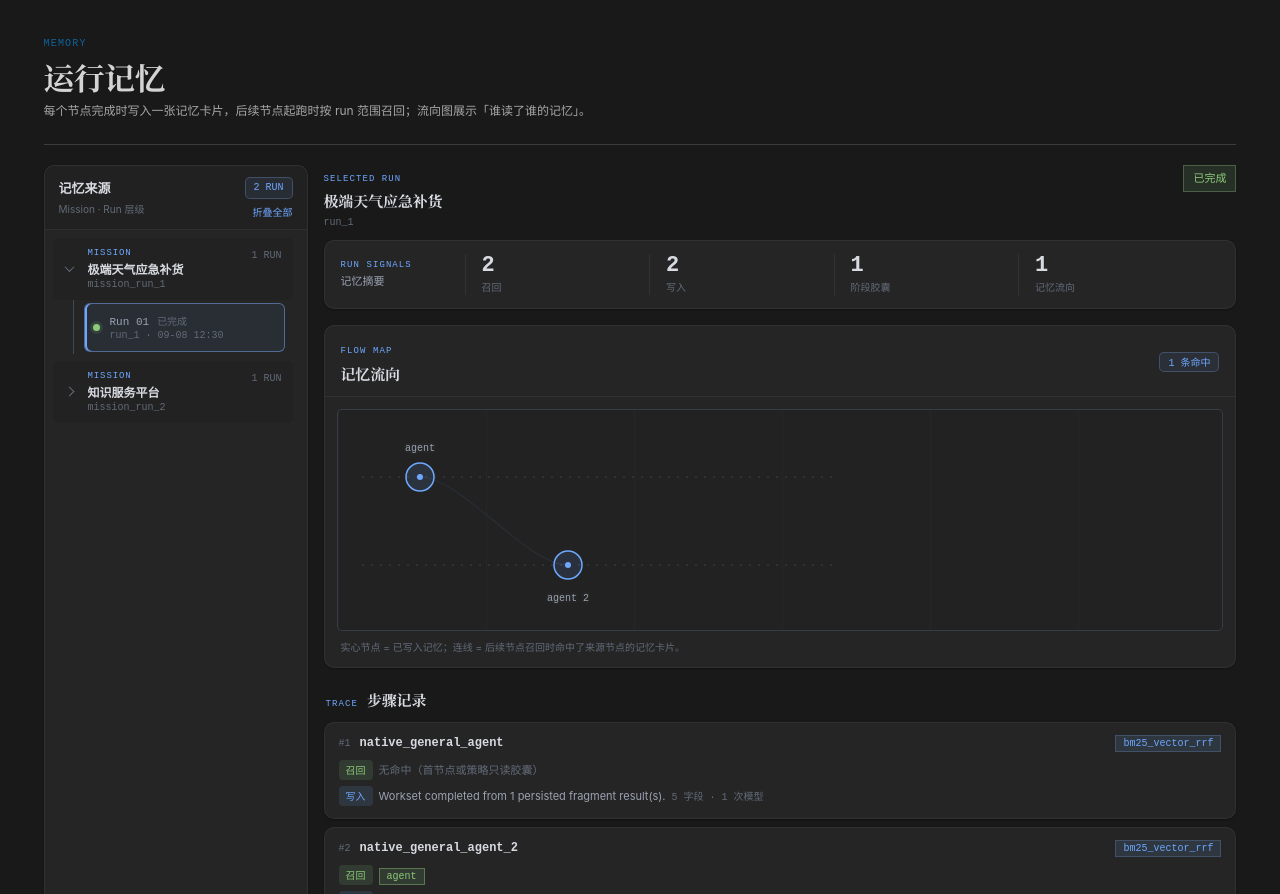
Scenario: MemoryView › 点击其它运行切换并重新拉取记忆事件
Click the 2nd button with class "memory-mission__head".
click(172, 392)  # box [52,361,292,423]
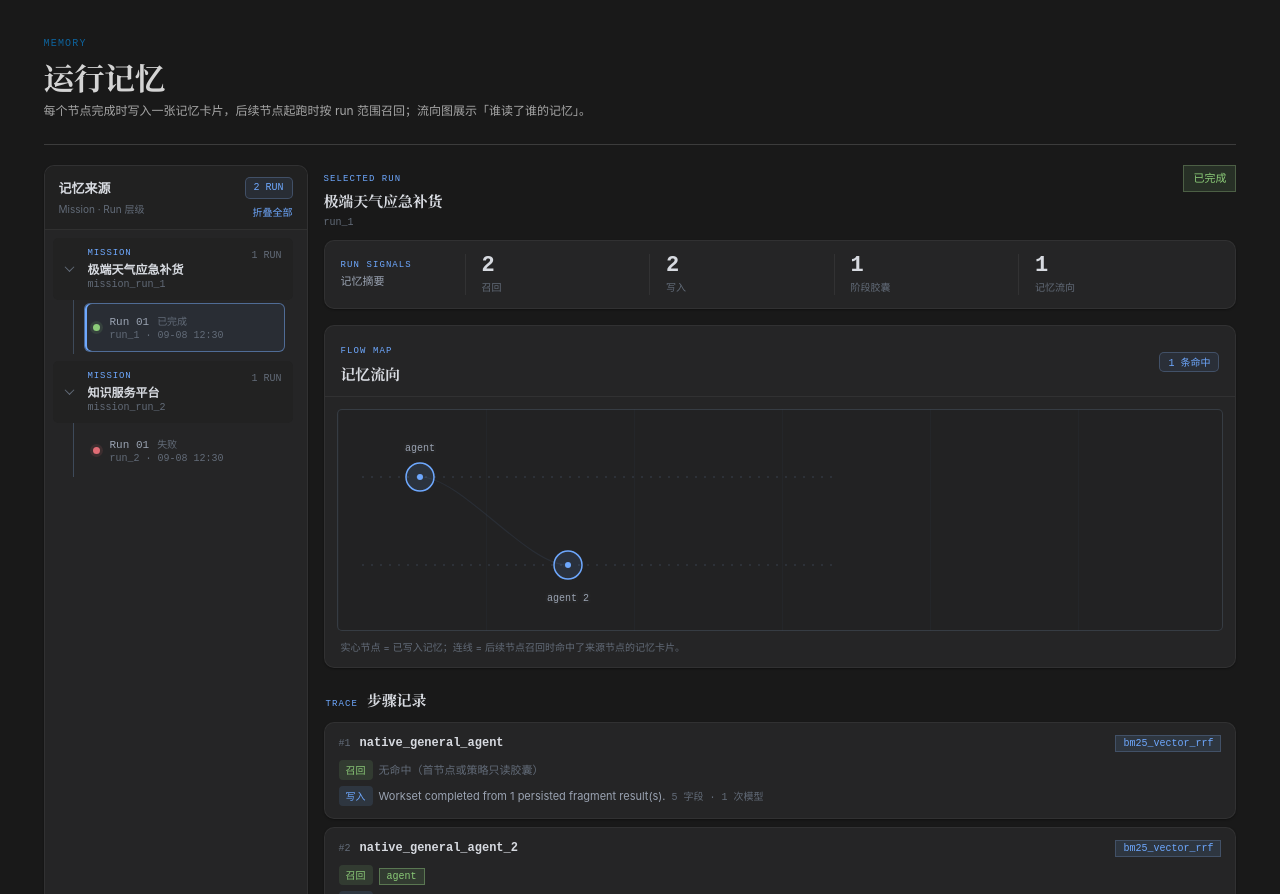
Click the button with class "memory-run" showing "Run 01 失败 run_2 · 09-08 12:30".
click(184, 450)  # box [84,426,284,475]
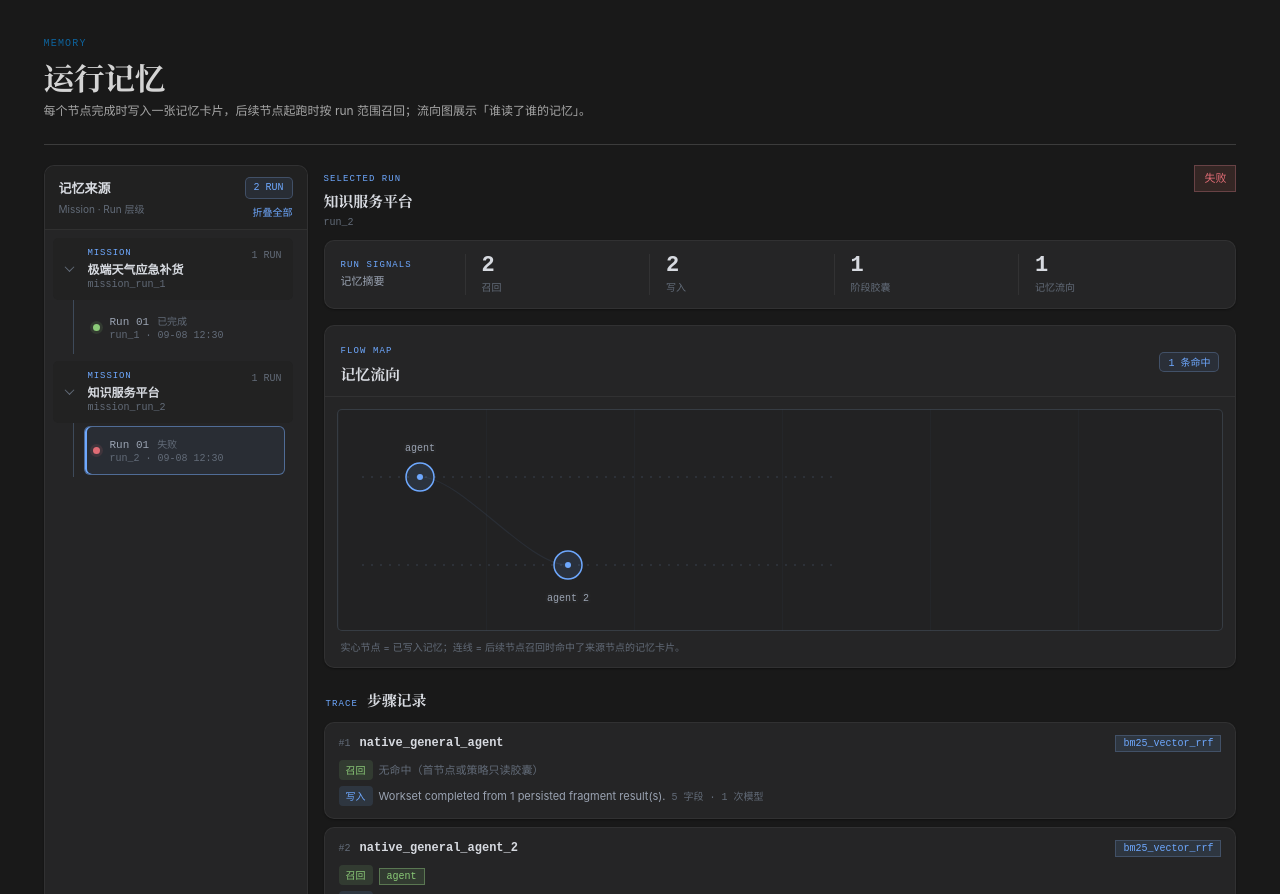
Expected: the text "run_2" is shown, [324,217,354,228]
